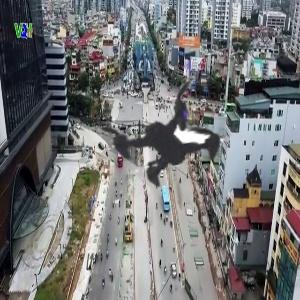drone: (48, 32, 287, 271)
